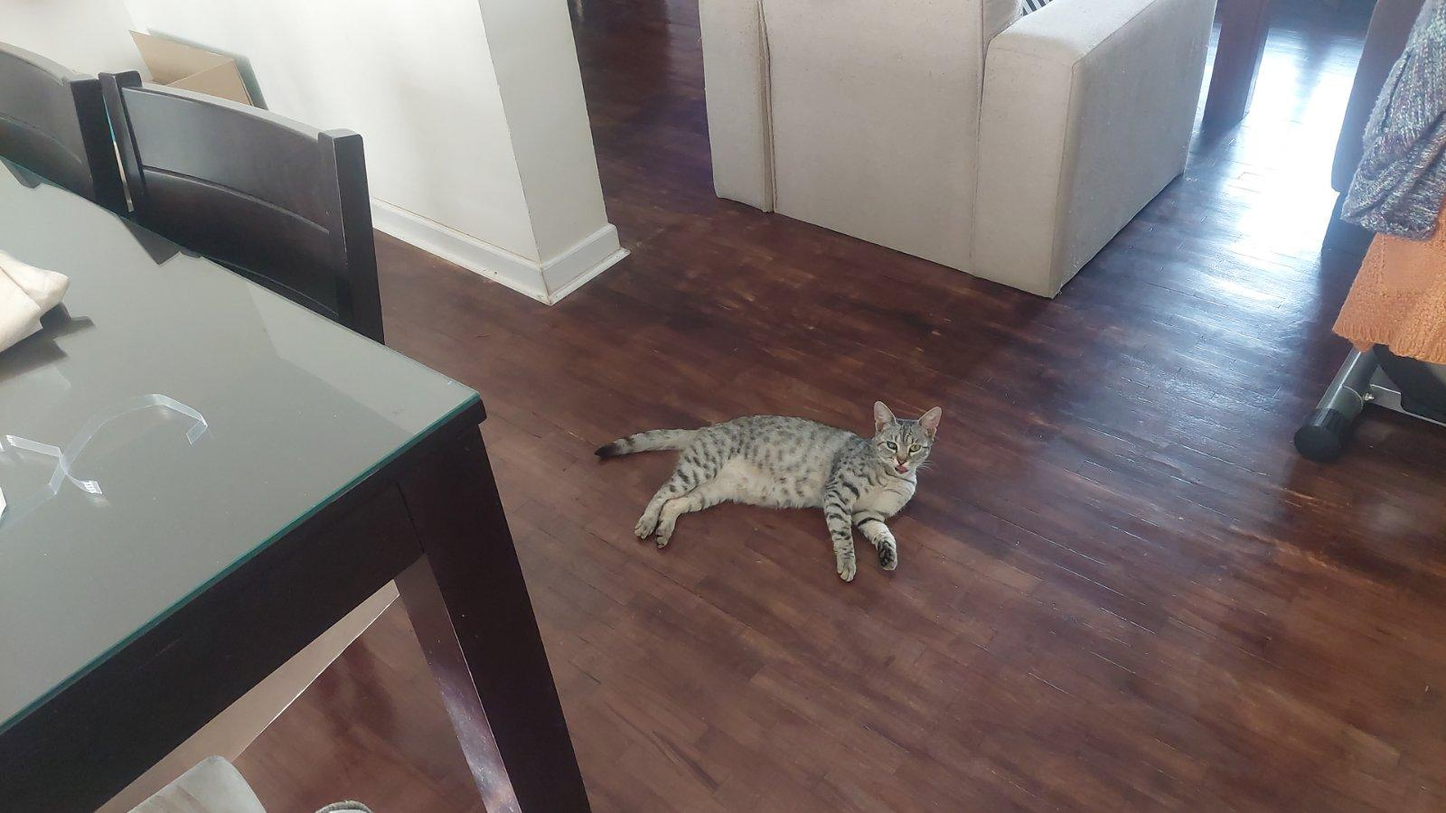macka: (593, 399, 942, 582)
